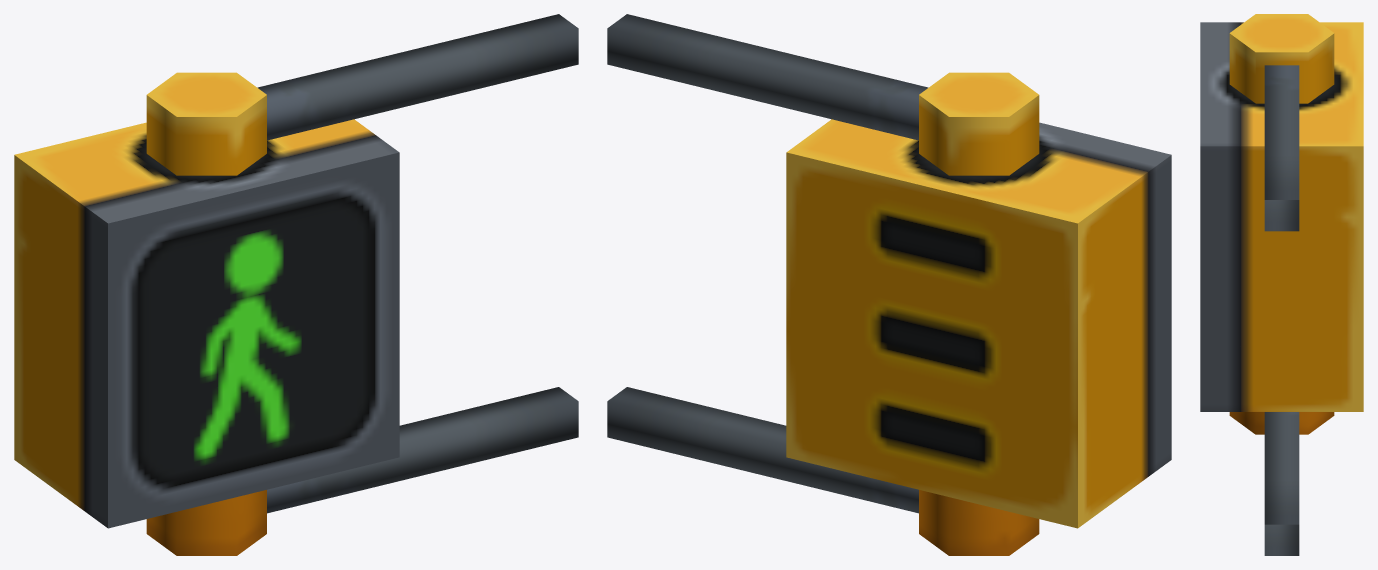
Rendered from Streetlight_el1.fbx.
The picture shows the model from 3 angles, left to right: view 1: azimuth 30°, elevation 25°; view 2: azimuth 150°, elevation 25°; view 3: azimuth 270°, elevation 25°; orthographic projection. The views are drawn at different scales.
Visible parts, largest first — view 1: polySurface129; view 2: polySurface129; view 3: polySurface129.
Part boxes in pixels (x1,y1,x2,y2): polySurface129: (14,14,578,555); polySurface129: (607,14,1171,555); polySurface129: (1200,14,1363,555).
Bounding box in the file's own units: 1.23 × 1.02 × 0.3936.
